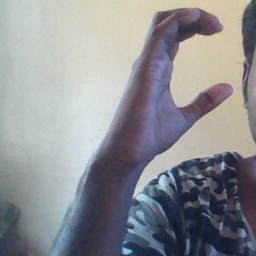C: (145, 3, 236, 123)
